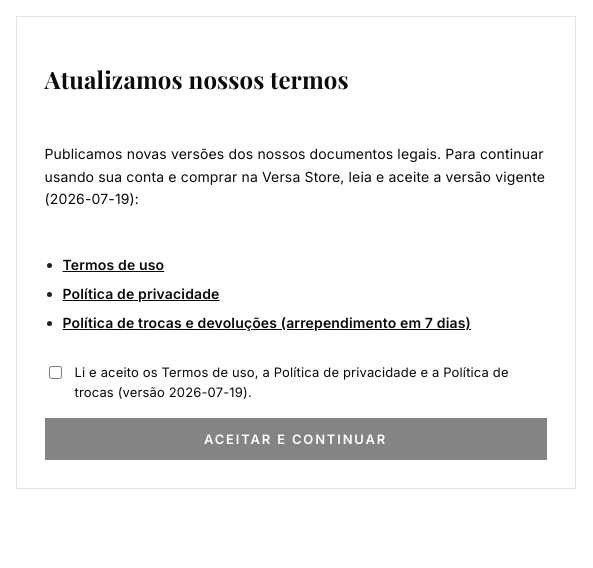
TermsGate › falha ao aceitar mostra erro e mantém o gate
The width and height of the screenshot is (593, 568).
Click the checkbox.
click(55, 373)  # box [48,366,62,379]
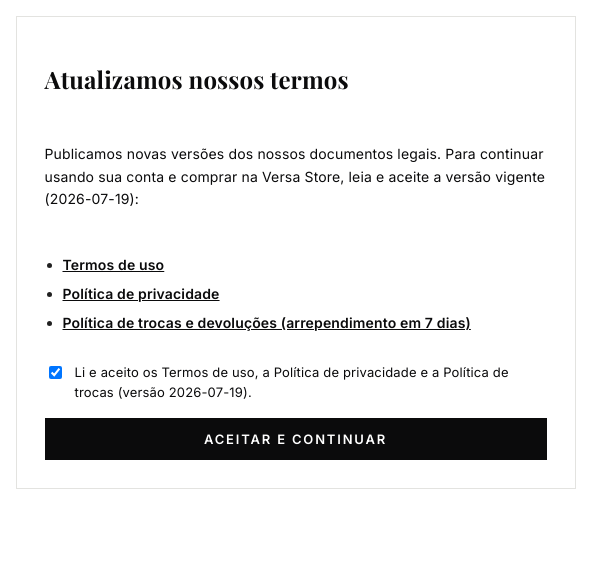
Click the button "Aceitar e continuar".
click(296, 439)  # box [44,418,546,460]
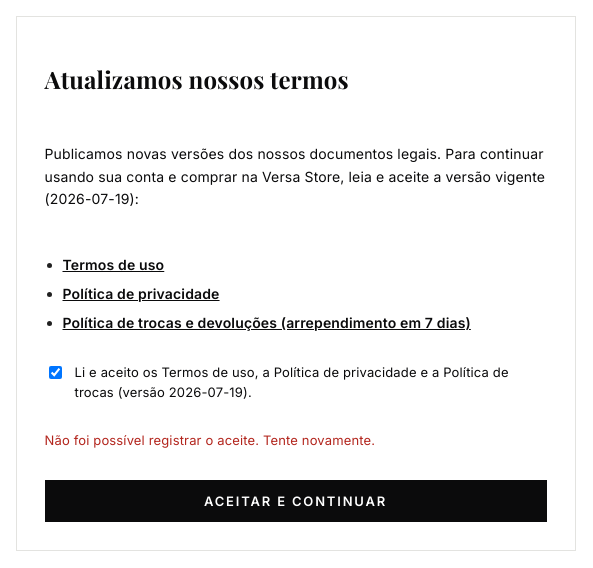
Expected: the text "Não foi possível registrar o aceite. Tente novamente." is shown, [44,432,375,448]
